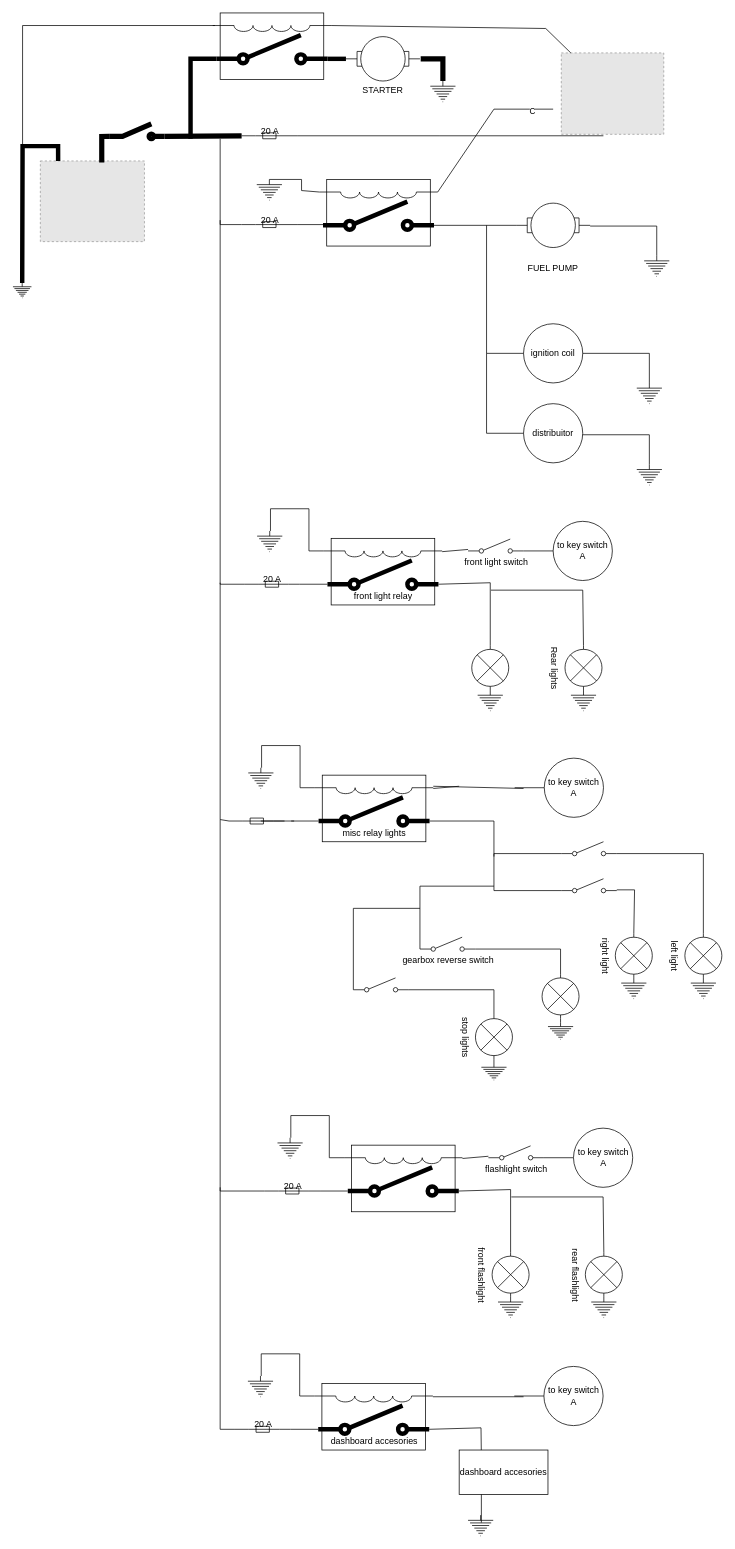
The diagram is 735 pixels wide and 1549 high, and some of its shapes have lost their labels. Grey dashed boxes stand in for pictures. Here are the shapes that lost their labels. From the top down, the centre of each, then its label:
[271,50]: Starter Relay
[378,216]: fuel pump Relay
[490,667]: Front lights
[256,816]: 15 A
[589,849]: left switch control
[589,886]: right switch control
[381,985]: brake stop
[560,996]: reverse lights
[403,1182]: flashlight relay
